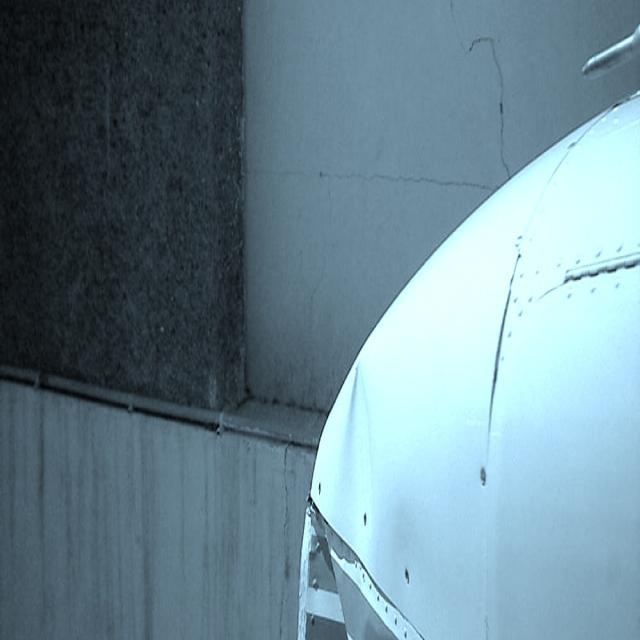dent: (301, 367, 379, 640)
